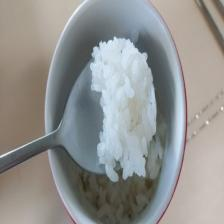rice: (91, 36, 157, 184)
